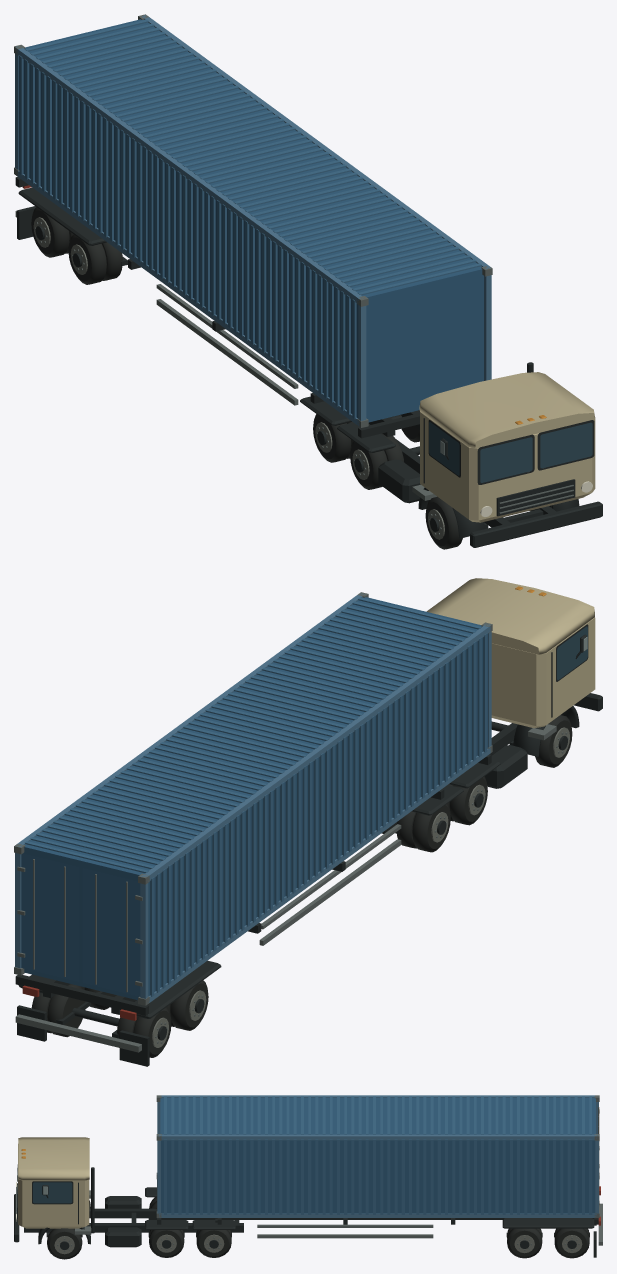
File: truck_kamaz_semi.glb
3 views of the same model, one above another, from view 1: azimuth 30°, elevation 25°; view 2: azimuth 150°, elevation 25°; view 3: azimuth 270°, elevation 25° (orthographic). The views are drawn at different scales.
Visible parts, largest first — view 1: KamAZ_Container; view 2: KamAZ_Container; view 3: KamAZ_Container.
Part boxes in pixels (box(x1,y1,x2,y2)): KamAZ_Container: box(14, 14, 602, 549); KamAZ_Container: box(14, 578, 602, 1066); KamAZ_Container: box(14, 1095, 602, 1259).
Size of the model in its own units: 3.05 by 3.99 by 16.99.
